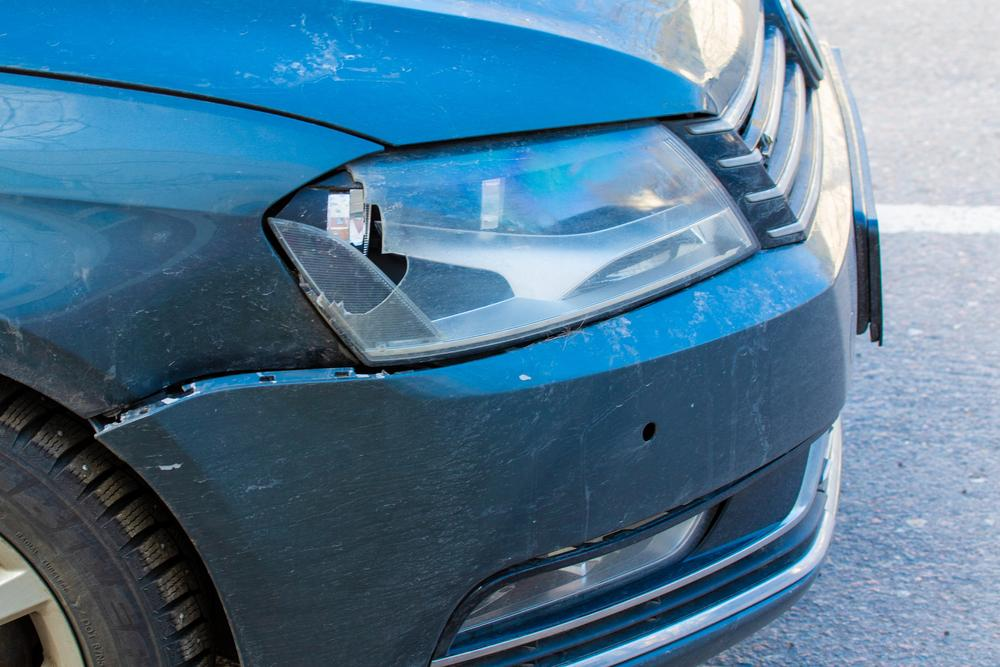lamp broken: (268, 118, 763, 370)
